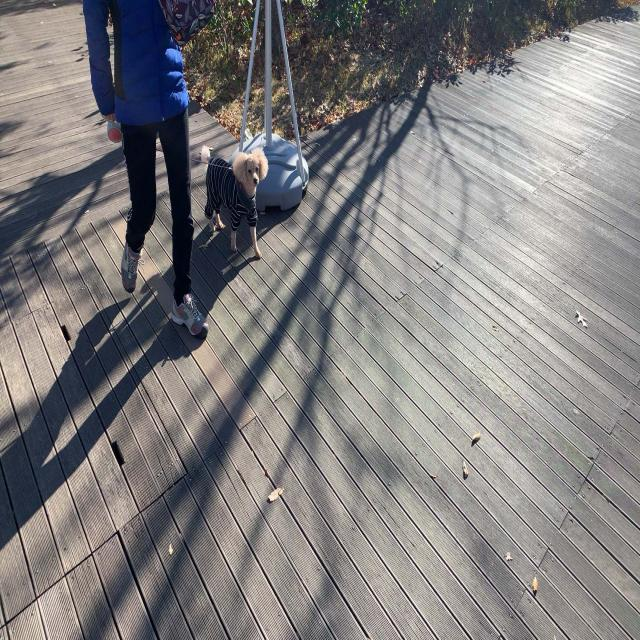Leashed_Dog: (168, 138, 271, 259)
